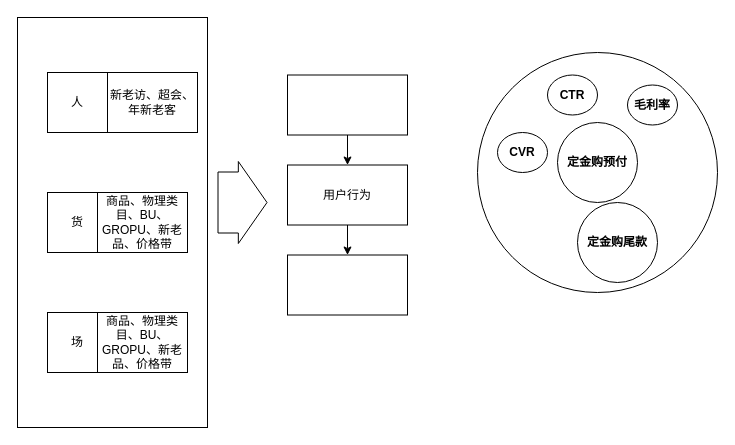
This 735x445 diagram has some shape labels left out. Here are the shapes that lost their labels. From the top down, the centre of each, then its label:
At (x=347, y=104): "埋点体系".
At (x=347, y=284): "导购归因".
